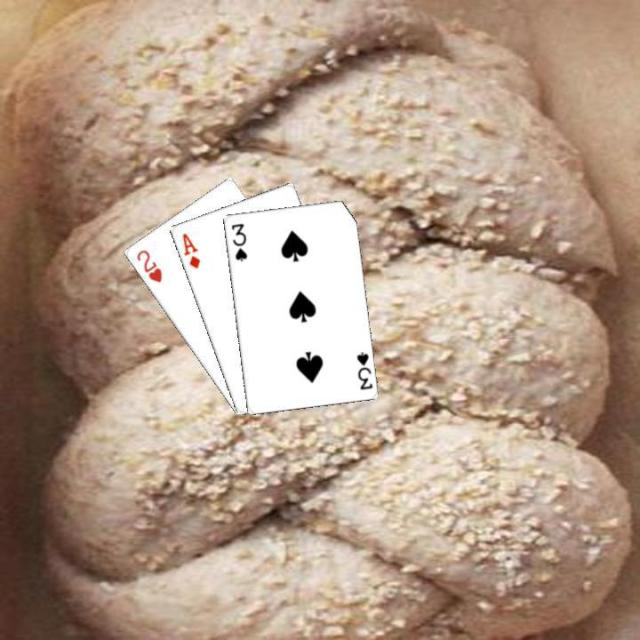2H: (132, 246, 164, 284)
3S: (227, 220, 249, 262), (352, 348, 373, 391)
AD: (178, 230, 202, 270)
